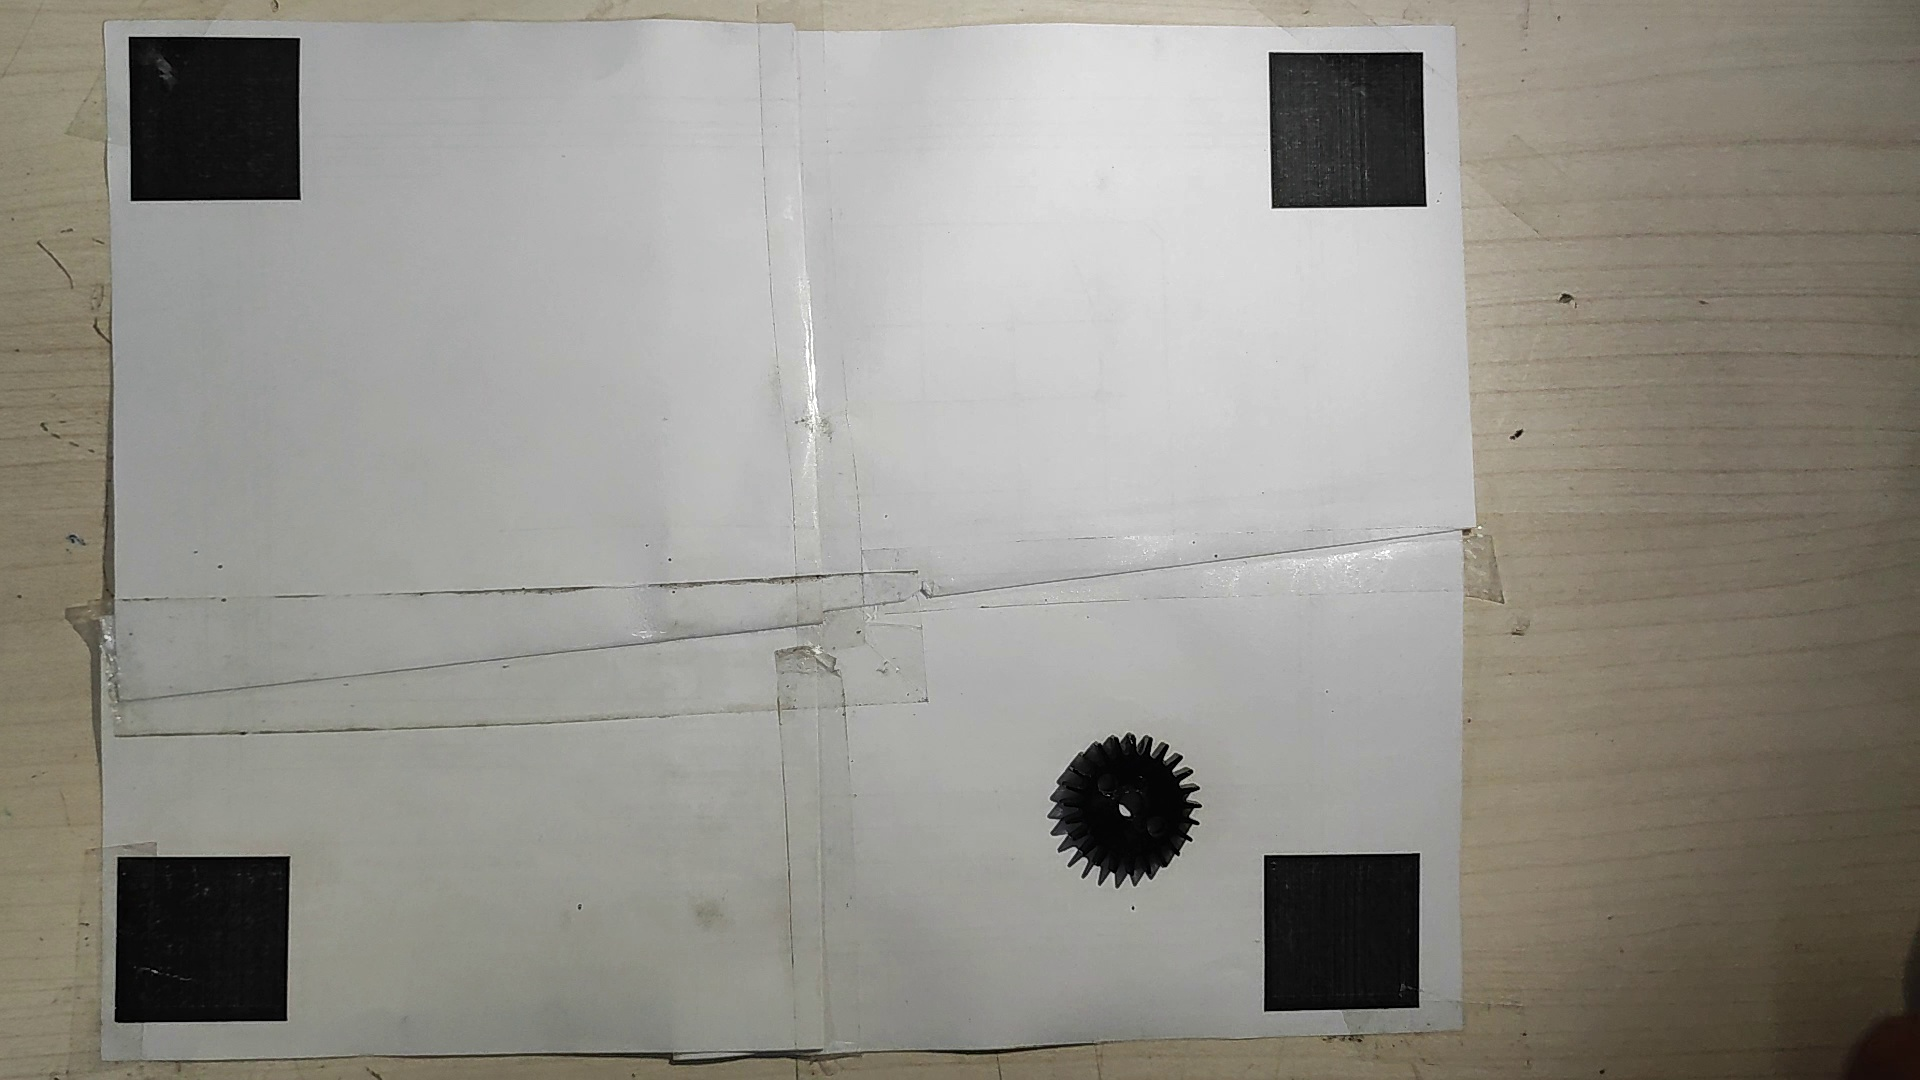Gear: (1049, 728, 1203, 889)
